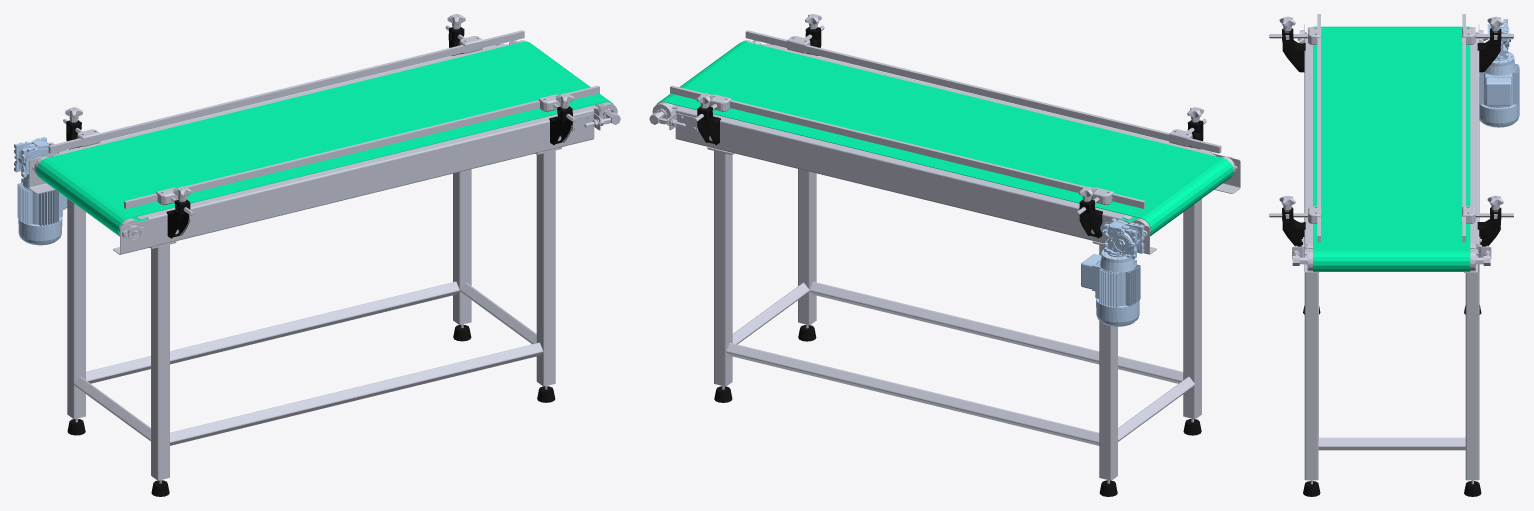
The model's file is conveyor.dae.
3 renders of one model, left to right at view 1: azimuth 30°, elevation 25°; view 2: azimuth 150°, elevation 25°; view 3: azimuth 270°, elevation 25°, orthographic. The views are drawn at different scales.
Parts seen in each view (by area): view 1: Conveyor_2; view 2: Conveyor_2; view 3: Conveyor_2.
Part boxes in pixels (left/top/right/bottom): Conveyor_2: left=14, top=14, right=620, bottom=496; Conveyor_2: left=649, top=14, right=1240, bottom=496; Conveyor_2: left=1269, top=14, right=1519, bottom=496.
Size of the model in its own units: 1.58 by 0.7151 by 0.9416.
